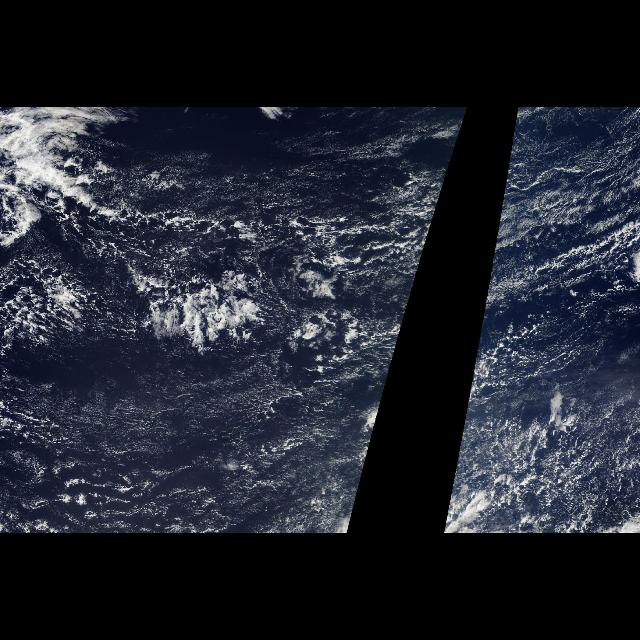Gravel: (6, 165, 388, 358)
Sugar: (8, 362, 360, 532), (468, 109, 636, 413)
